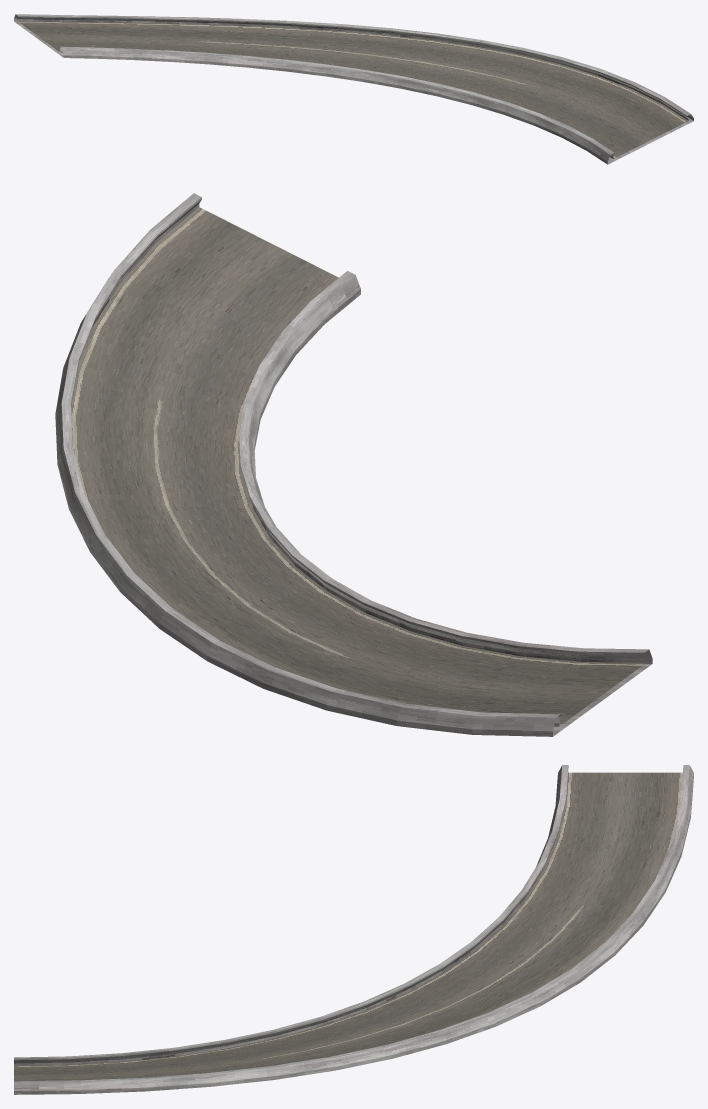
File: turn-left5x5.glb
3 views of the same model, one above another, from view 1: azimuth 30°, elevation 25°; view 2: azimuth 150°, elevation 25°; view 3: azimuth 270°, elevation 25° (orthographic). The views are drawn at different scales.
Visible parts, largest first — view 1: road-Turn-HalfBankedLeft-BiSlopeUp-Up2-Left-Size5; view 2: road-Turn-HalfBankedLeft-BiSlopeUp-Up2-Left-Size5; view 3: road-Turn-HalfBankedLeft-BiSlopeUp-Up2-Left-Size5.
Part boxes in pixels (bbox=[...]): road-Turn-HalfBankedLeft-BiSlopeUp-Up2-Left-Size5: bbox=[14, 14, 693, 164]; road-Turn-HalfBankedLeft-BiSlopeUp-Up2-Left-Size5: bbox=[55, 193, 652, 736]; road-Turn-HalfBankedLeft-BiSlopeUp-Up2-Left-Size5: bbox=[14, 765, 693, 1094].
Bounding box in the file's own units: 5 × 0.595 × 5.
2 materials, 2 textured.
